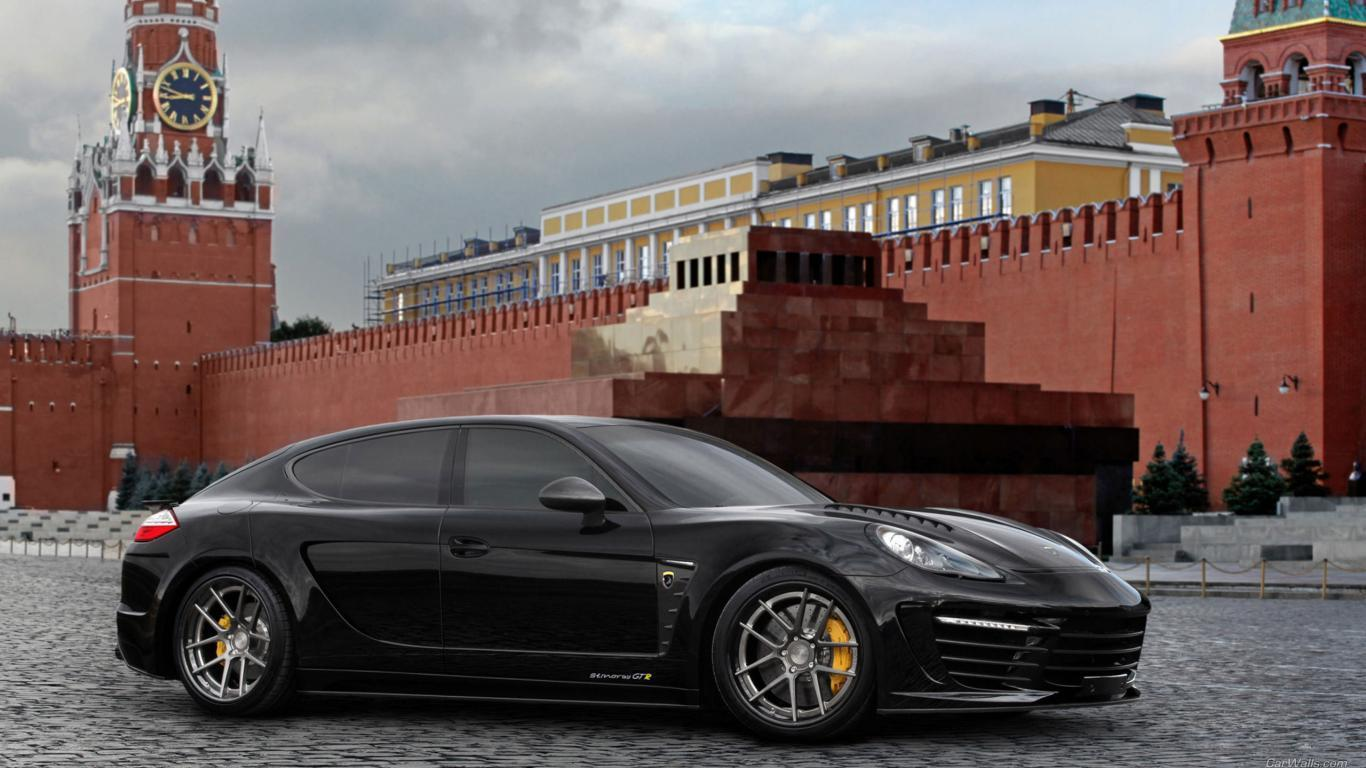Sedan: (114, 411, 1151, 744)
